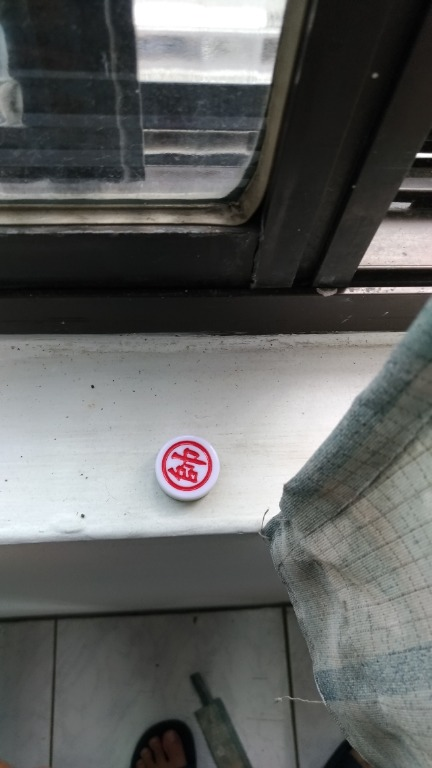r-king: (150, 429, 227, 509)
